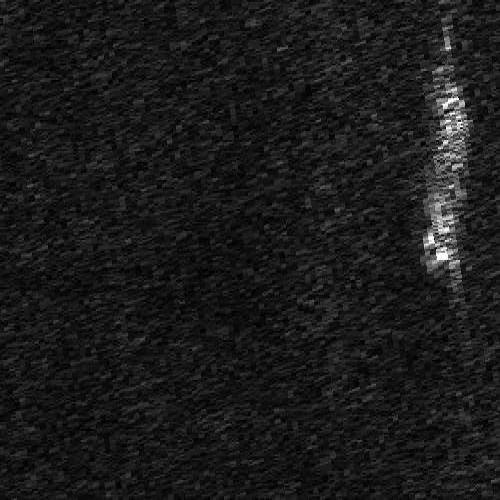ship: (419, 76, 468, 276)
